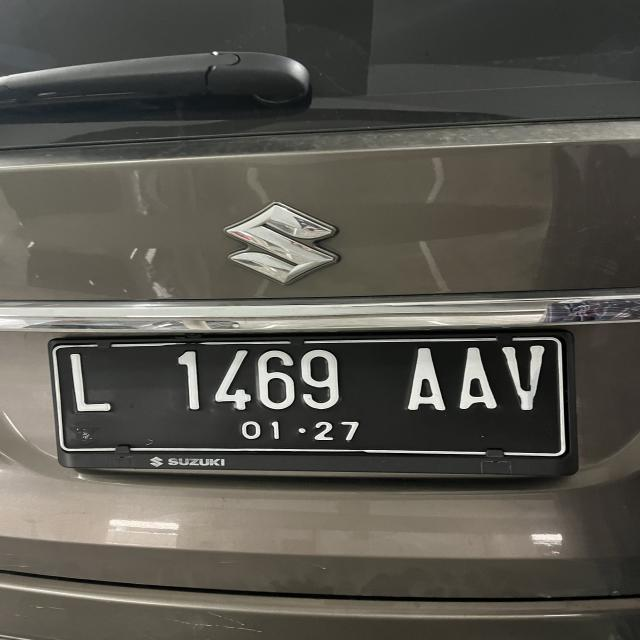1: (170, 347, 210, 409)
4: (216, 350, 254, 418)
6: (260, 344, 296, 410)
9: (298, 351, 346, 408)
A: (406, 346, 450, 414), (462, 342, 501, 416)
L: (61, 353, 118, 418)
V: (496, 340, 546, 406)
